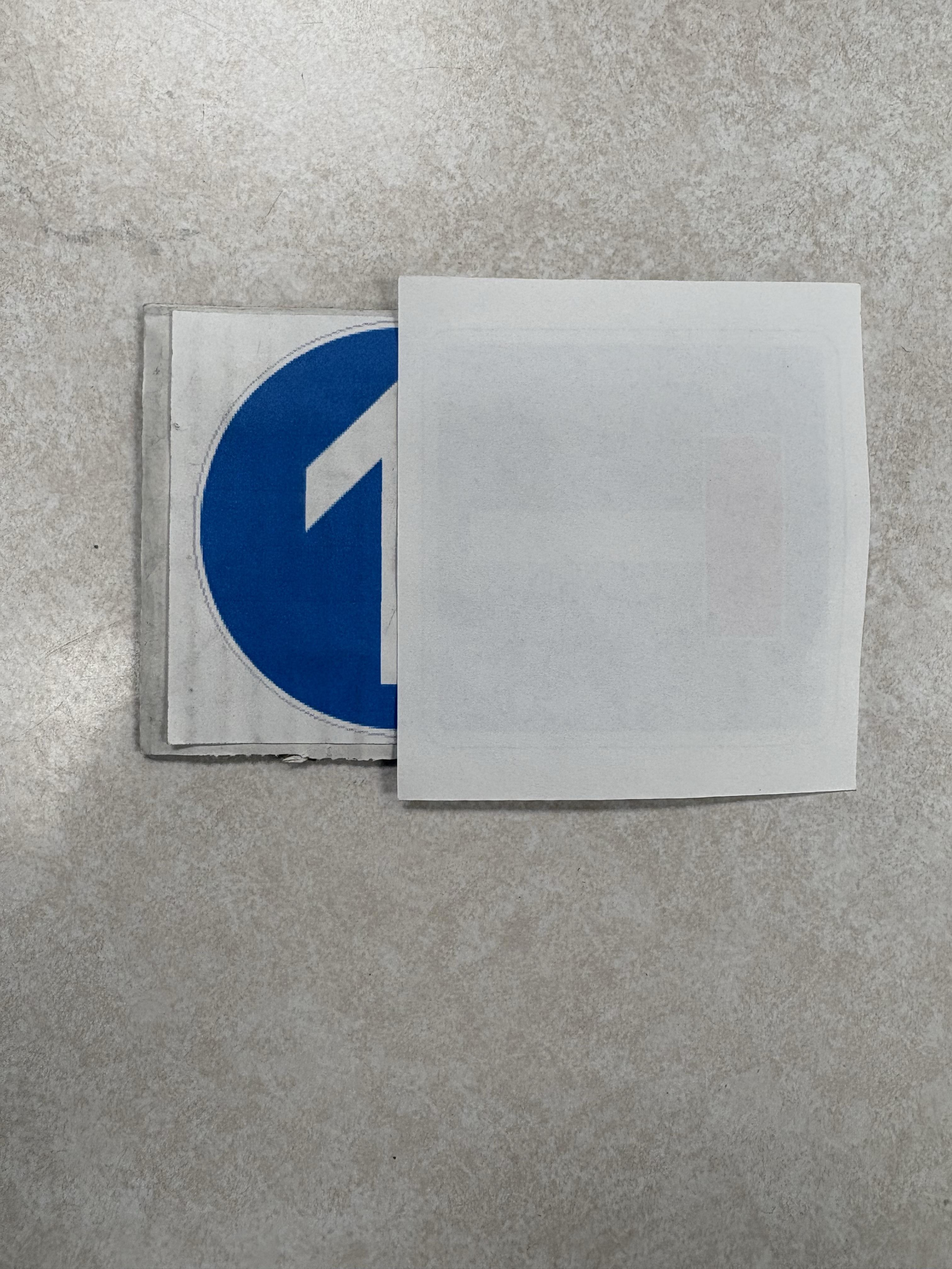Proceed Forward: (95, 407, 299, 1017)
